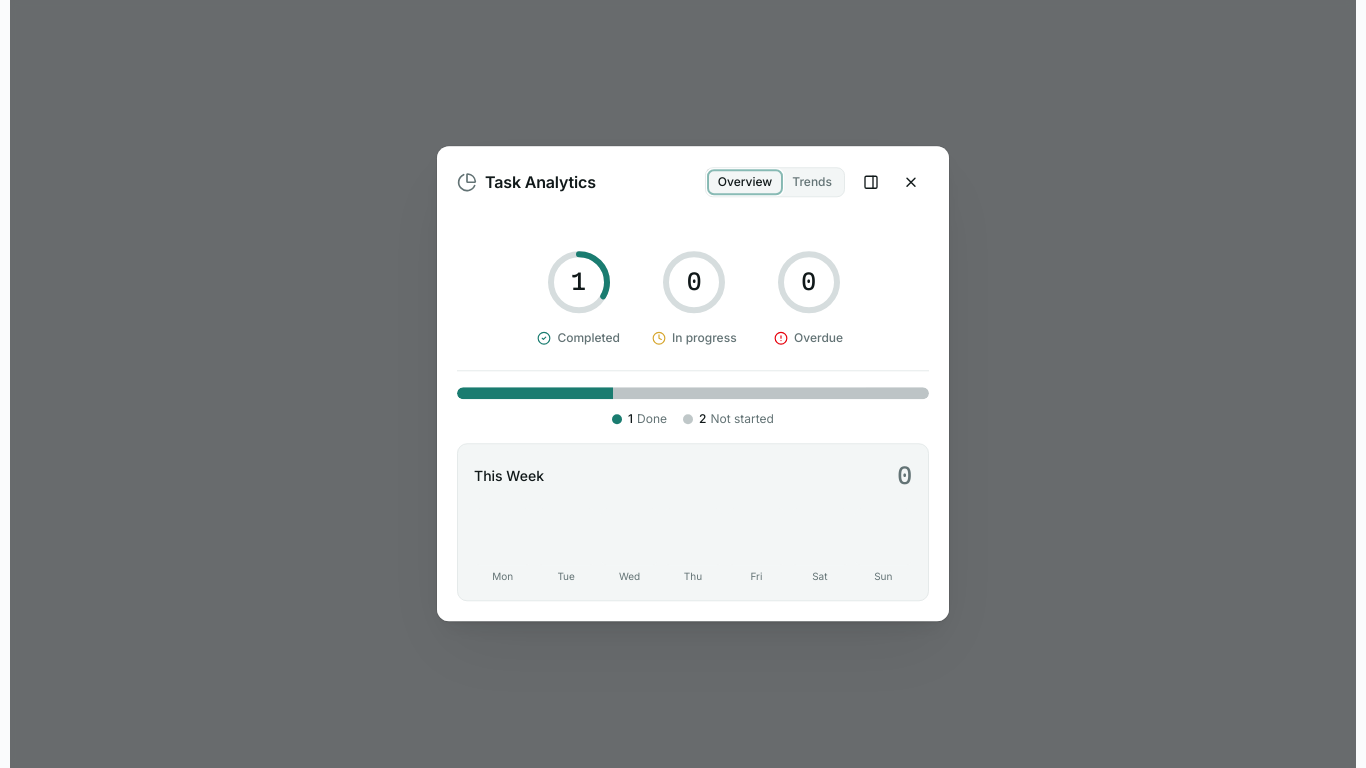
Test case: TaskAnalyticsDialog › should render show completed toggle
Click the button "Trends" at (812, 182), box [782,170,842,194]
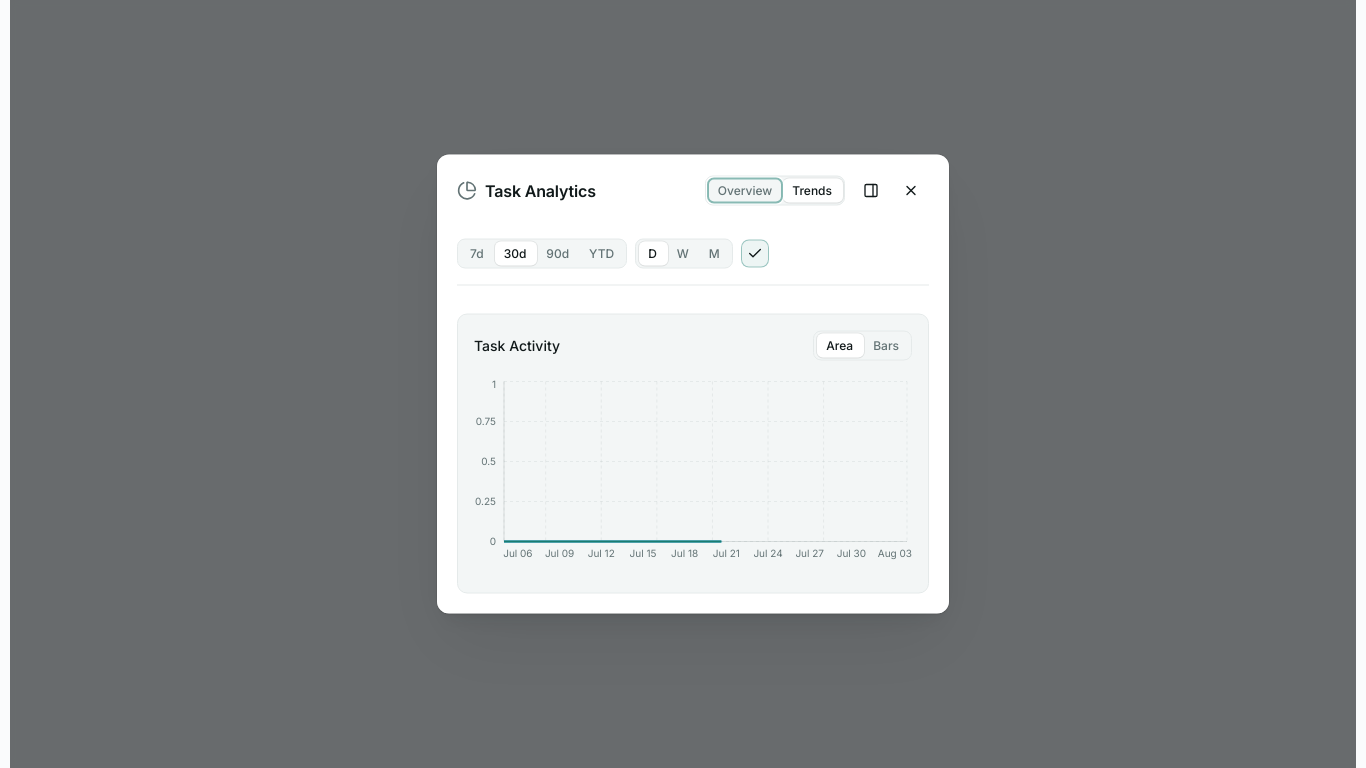
Expected: the button titled "Hide completed tasks" is shown, [741,240,769,268]
